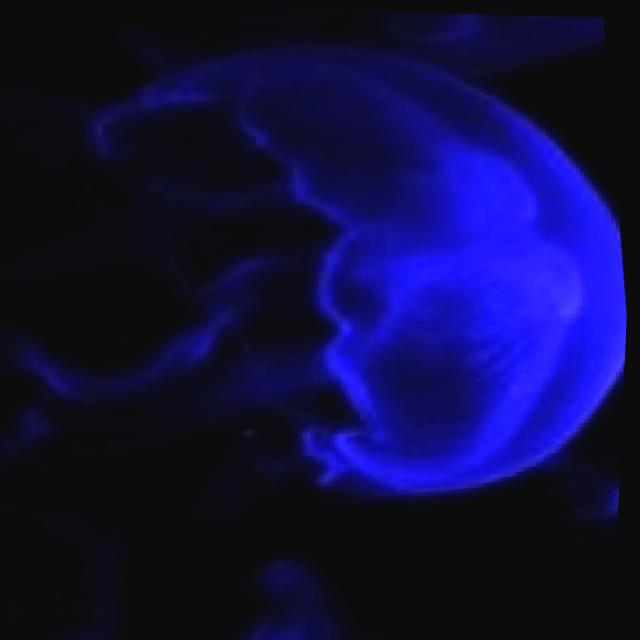Moon-jellyfish: (61, 8, 640, 546)
